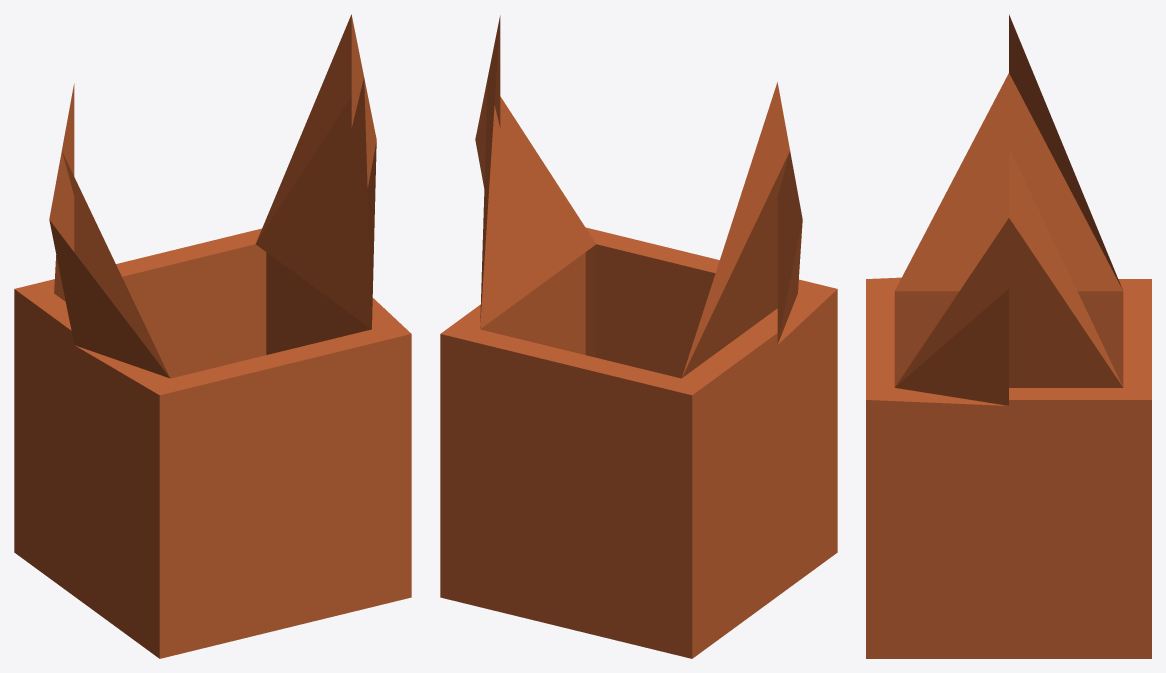
The model's file is bag.obj.
3 views of the same model, side by side, from view 1: azimuth 30°, elevation 25°; view 2: azimuth 150°, elevation 25°; view 3: azimuth 270°, elevation 25° (orthographic).
Visible parts, largest first — view 1: Bag; view 2: Bag; view 3: Bag.
Part boxes in pixels (x1=…): Bag: x1=14, y1=14, x2=411, y2=658; Bag: x1=440, y1=15, x2=837, y2=658; Bag: x1=866, y1=14, x2=1151, y2=658.
Bounding box in the file's own units: 2.6 × 4 × 2.
